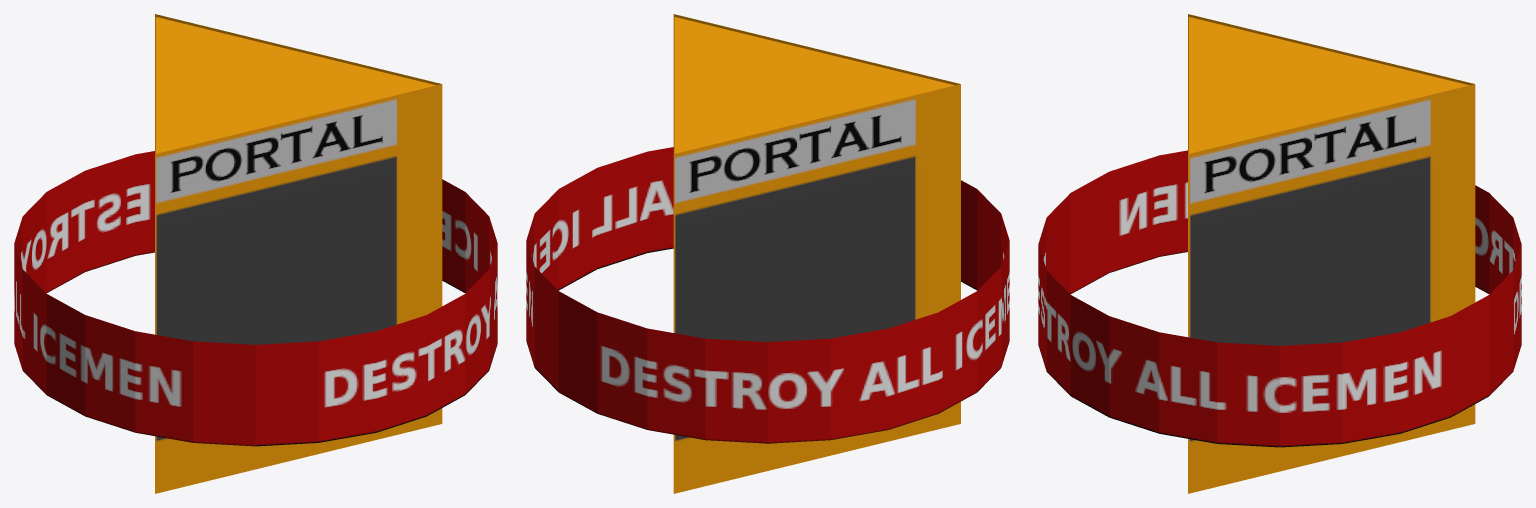
3 views of the same model, side by side, from view 1: azimuth 30°, elevation 25°; view 2: azimuth 150°, elevation 25°; view 3: azimuth 270°, elevation 25° (orthographic).
Parts seen in each view (by area): view 1: TextArea, Circle, Portal; view 2: TextArea, Circle, Portal; view 3: TextArea, Circle, Portal.
Boxes of the visible parts, x1=… form: TextArea: x1=155, y1=14, x2=442, y2=493; Circle: x1=14, y1=151, x2=497, y2=446; Portal: x1=155, y1=17, x2=436, y2=153; TextArea: x1=673, y1=14, x2=960, y2=493; Circle: x1=526, y1=147, x2=1009, y2=443; Portal: x1=674, y1=17, x2=954, y2=153; TextArea: x1=1188, y1=14, x2=1475, y2=493; Circle: x1=1038, y1=150, x2=1521, y2=447; Portal: x1=1188, y1=17, x2=1468, y2=153.
Bounding box in the file's own units: 2.54 × 2.54 × 1.97.
2 materials, 2 textured.
